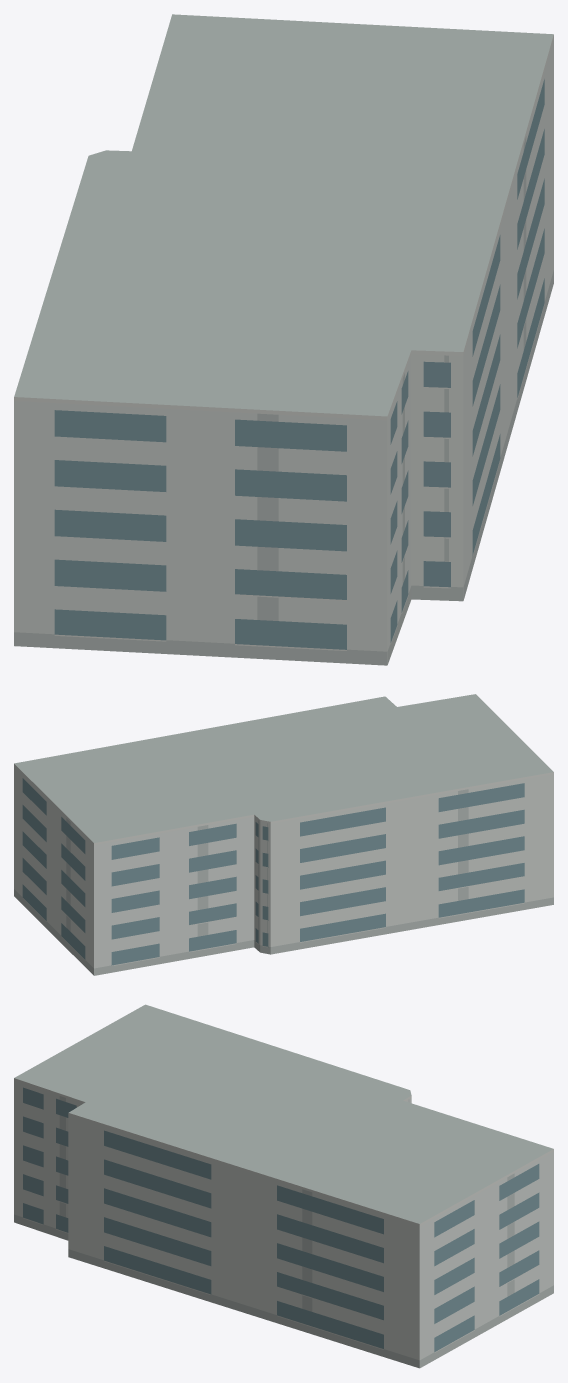
The model's file is survey-upis-32924974.glb.
3 renders of one model, top to bottom at view 1: azimuth 30°, elevation 25°; view 2: azimuth 150°, elevation 25°; view 3: azimuth 270°, elevation 25°, orthographic. The views are drawn at different scales.
Visible parts, largest first — view 1: survey-upis-32924974.tmp; view 2: survey-upis-32924974.tmp; view 3: survey-upis-32924974.tmp.
Part boxes in pixels (<box>): survey-upis-32924974.tmp: <box>14,14,553,665</box>; survey-upis-32924974.tmp: <box>14,694,553,975</box>; survey-upis-32924974.tmp: <box>14,1004,553,1368</box>.
Bounding box in the file's own units: 49.75 × 15.25 × 51.69.
